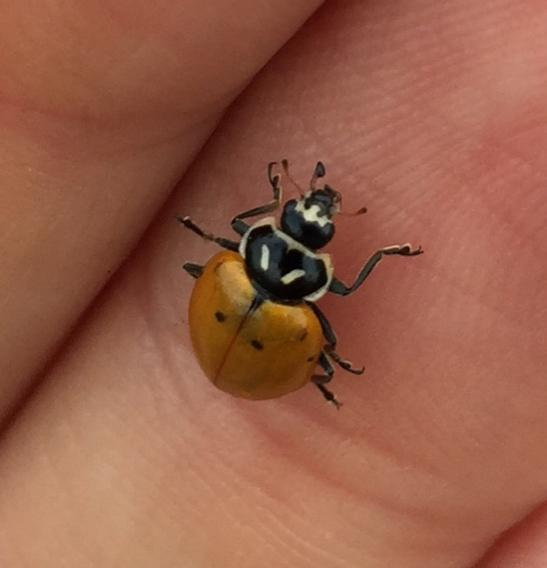ladybug: (169, 153, 431, 416)
